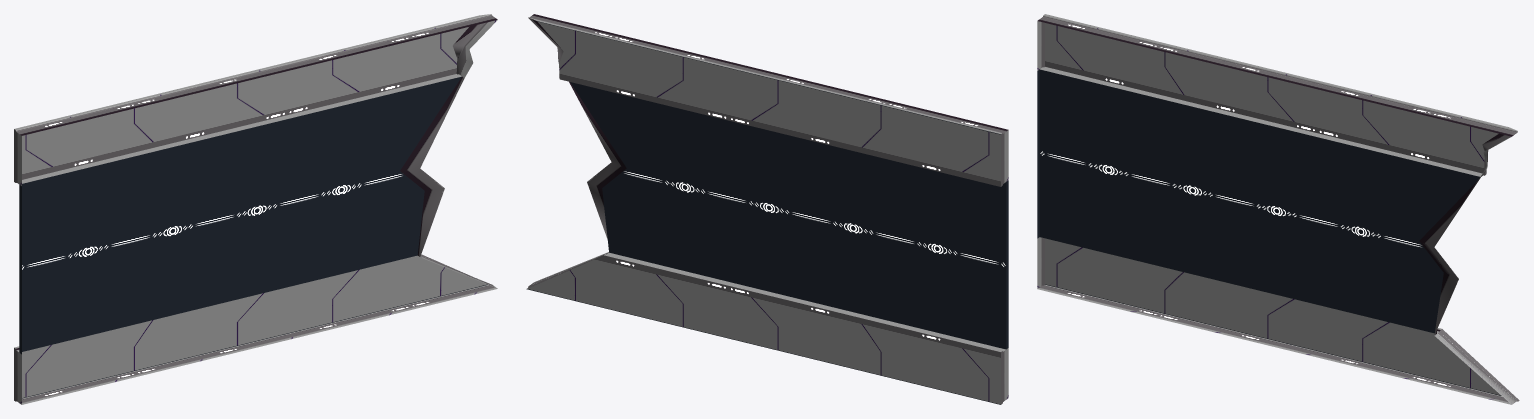
Rendered from SM_S_BRoad.fbx.
3 renders of one model, left to right at view 1: azimuth 30°, elevation 25°; view 2: azimuth 150°, elevation 25°; view 3: azimuth 330°, elevation 25°, orthographic.
Visible parts, largest first — view 1: SM_S_BRoad; view 2: SM_S_BRoad; view 3: SM_S_BRoad.
Boxes of the visible parts, <box> form: SM_S_BRoad: <box>14,14,497,404</box>; SM_S_BRoad: <box>526,14,1008,404</box>; SM_S_BRoad: <box>1037,14,1519,404</box>.
Size of the model in its own units: 5418 by 2953 by 155.
